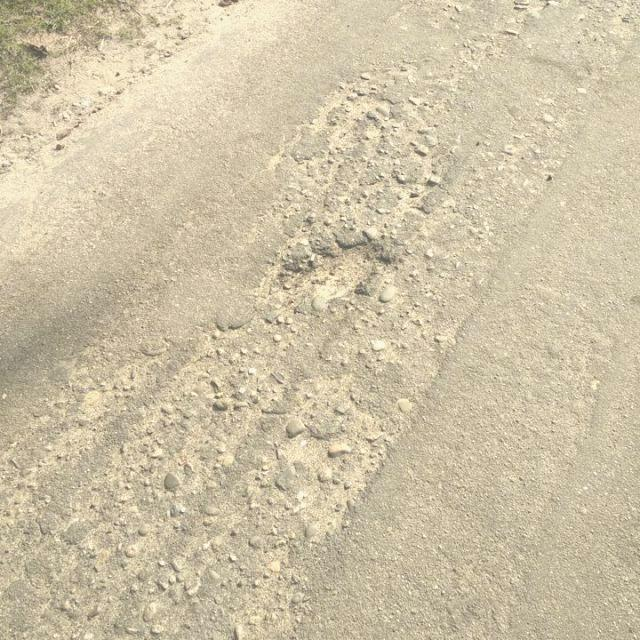Pothole: (284, 235, 395, 302)
